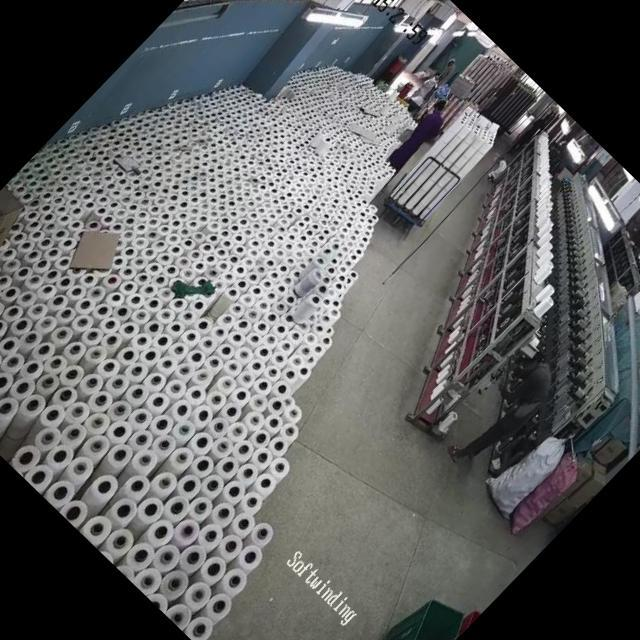person: (446, 349, 570, 476), (392, 99, 456, 165), (429, 51, 465, 88)
